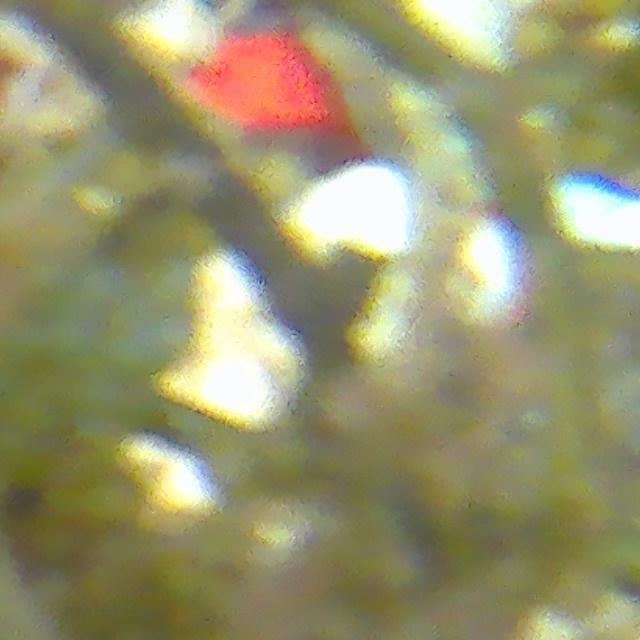SeaGrape: (80, 470, 142, 533), (506, 7, 569, 68)
